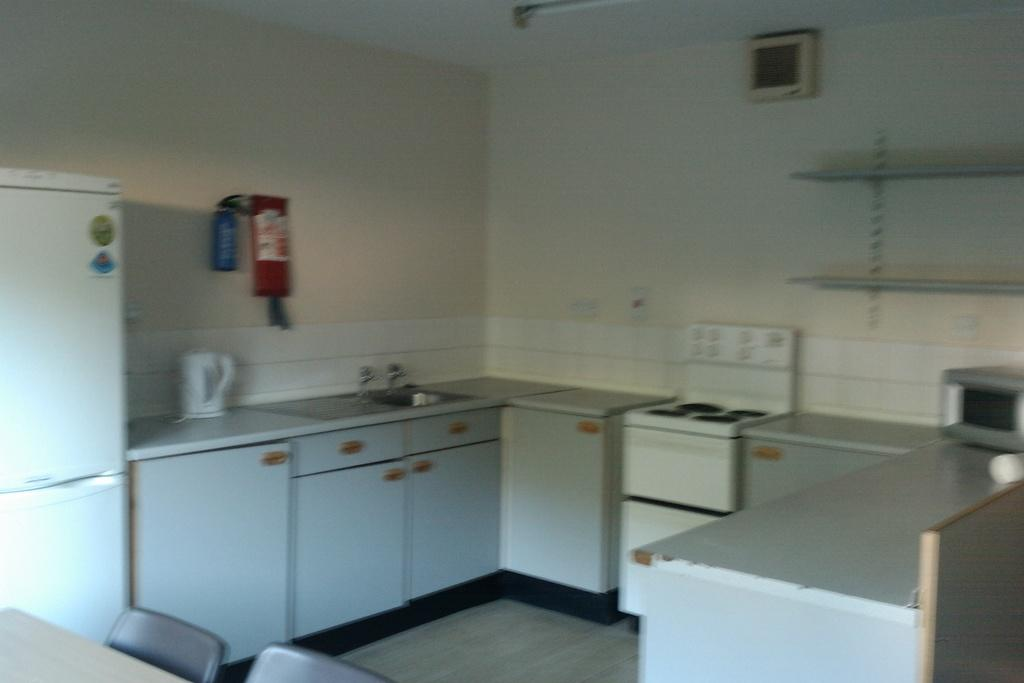cabinet_door: (137, 446, 289, 646), (506, 412, 604, 578), (307, 464, 403, 615), (410, 450, 498, 574), (748, 438, 879, 490), (294, 422, 408, 463), (409, 415, 508, 447)
handle: (46, 470, 118, 496), (750, 441, 776, 467), (450, 415, 472, 438), (264, 451, 286, 472), (382, 466, 406, 485), (342, 439, 366, 457), (414, 452, 430, 478), (577, 421, 599, 438)
